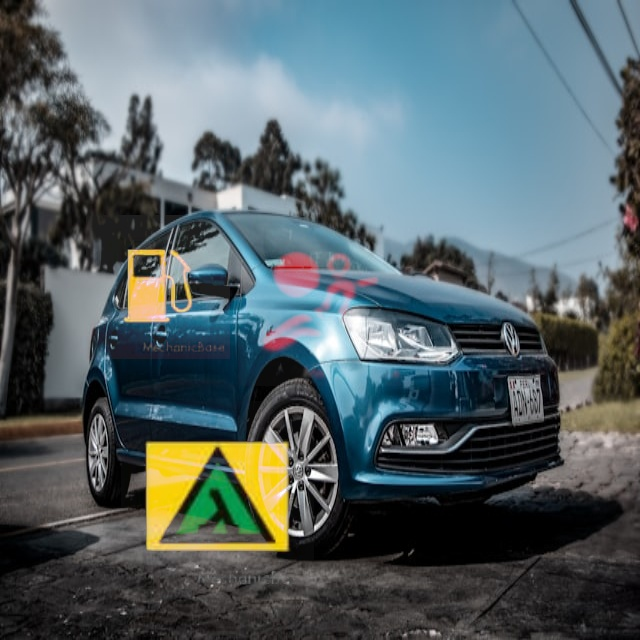symbol: (121, 401, 314, 594), (238, 218, 406, 386), (86, 215, 230, 359)
